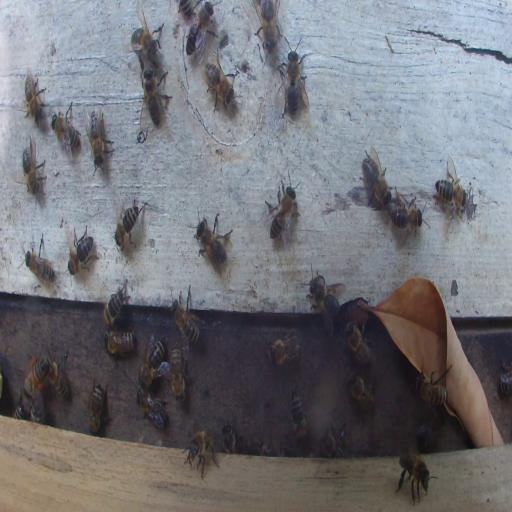bee: (276, 33, 310, 121), (305, 263, 343, 339), (189, 210, 234, 273), (264, 174, 302, 248), (169, 286, 210, 346), (389, 185, 425, 244), (129, 8, 165, 62), (203, 54, 236, 112), (140, 67, 172, 126), (183, 426, 220, 477), (434, 159, 467, 216), (396, 452, 432, 504), (362, 146, 392, 208), (185, 2, 216, 59), (51, 103, 81, 159), (86, 108, 113, 170), (22, 136, 46, 204), (67, 225, 96, 278), (113, 203, 145, 251), (26, 236, 56, 286), (22, 352, 49, 404), (102, 281, 130, 328), (344, 320, 372, 366), (267, 330, 302, 366), (140, 338, 164, 388), (347, 373, 375, 414), (24, 72, 46, 124), (137, 391, 167, 427), (417, 377, 449, 410), (46, 358, 70, 401), (256, 0, 279, 44), (288, 391, 308, 441), (105, 328, 137, 358), (170, 345, 185, 402), (88, 381, 104, 434), (320, 426, 346, 458), (416, 423, 440, 451), (221, 424, 237, 454), (499, 360, 511, 397), (14, 404, 30, 419)
